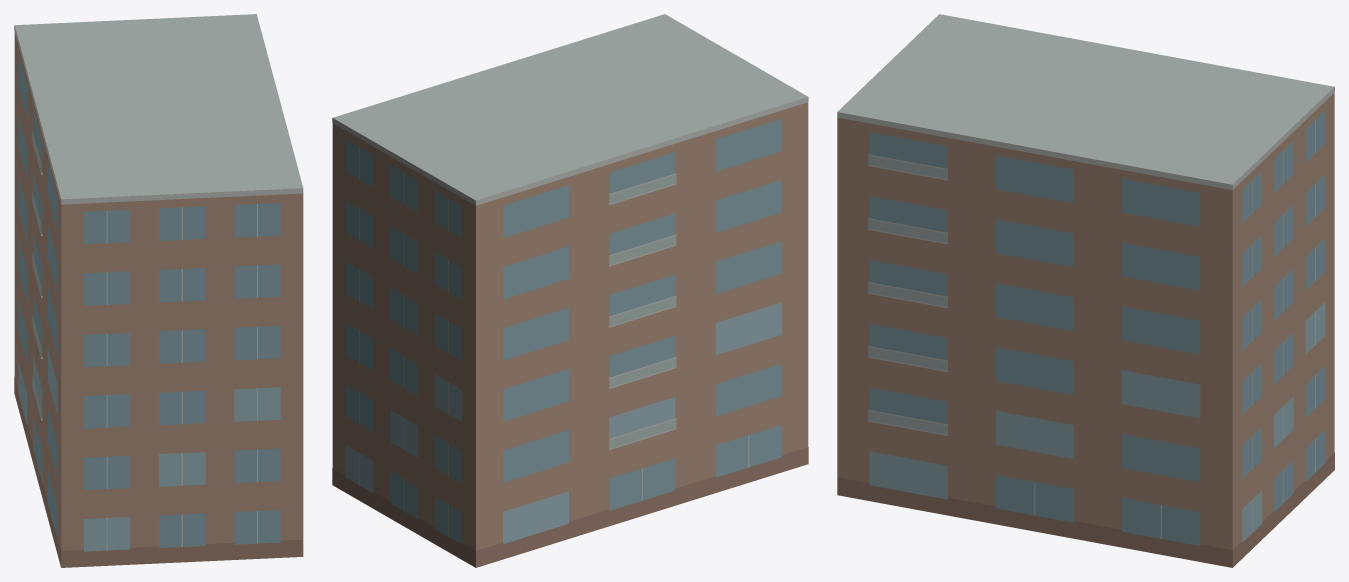
The model's file is survey-upis-33014410.glb.
The picture shows the model from 3 angles, left to right: view 1: azimuth 30°, elevation 25°; view 2: azimuth 150°, elevation 25°; view 3: azimuth 270°, elevation 25°; orthographic projection. The views are drawn at different scales.
Parts seen in each view (by area): view 1: survey-upis-33014410.tmp; view 2: survey-upis-33014410.tmp; view 3: survey-upis-33014410.tmp.
Boxes of the visible parts, bbox=[...] form: survey-upis-33014410.tmp: bbox=[14, 14, 303, 567]; survey-upis-33014410.tmp: bbox=[332, 14, 808, 567]; survey-upis-33014410.tmp: bbox=[837, 14, 1334, 567].
Bounding box in the file's own units: 16.26 × 17 × 20.02.
